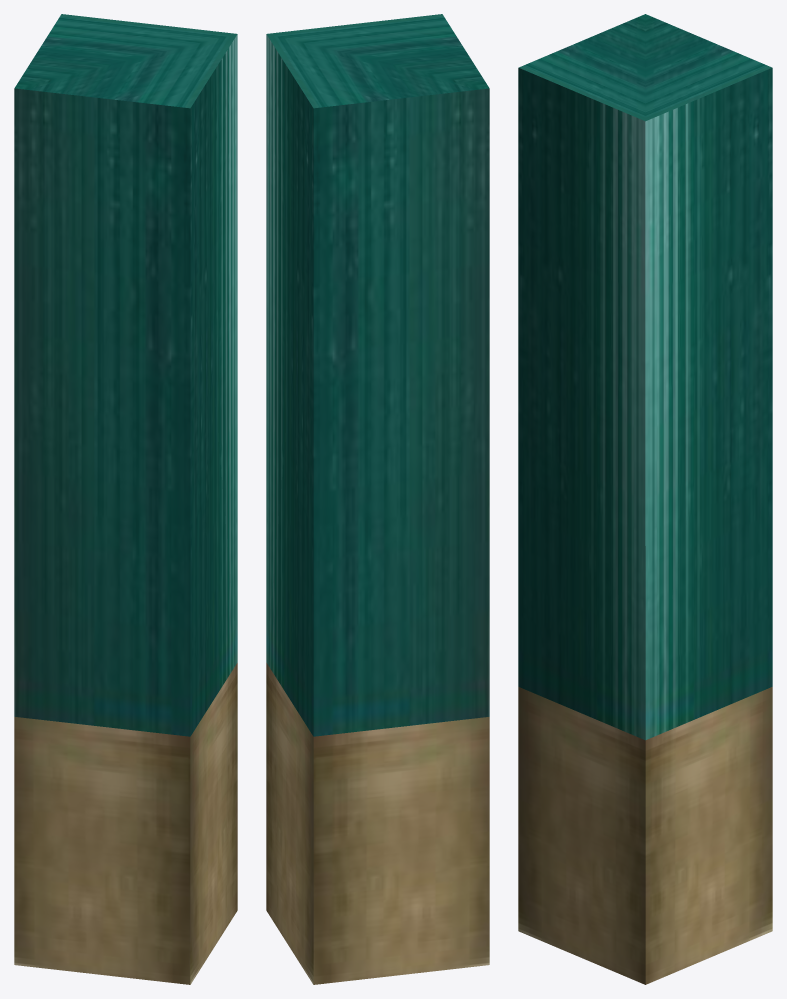
Rendered from blue shotgun shell.glb.
3 renders of one model, left to right at view 1: azimuth 30°, elevation 25°; view 2: azimuth 150°, elevation 25°; view 3: azimuth 270°, elevation 25°, orthographic.
Parts seen in each view (by area): view 1: ShellLowPolyGreen.003; view 2: ShellLowPolyGreen.003; view 3: ShellLowPolyGreen.003.
Boxes of the visible parts, x1,y1,x2,y2 form: ShellLowPolyGreen.003: (14,14,237,984); ShellLowPolyGreen.003: (266,14,489,984); ShellLowPolyGreen.003: (518,14,772,984).
Size of the model in its own units: 0.0481 by 0.1803 by 0.0481.
1 material, 1 textured.
